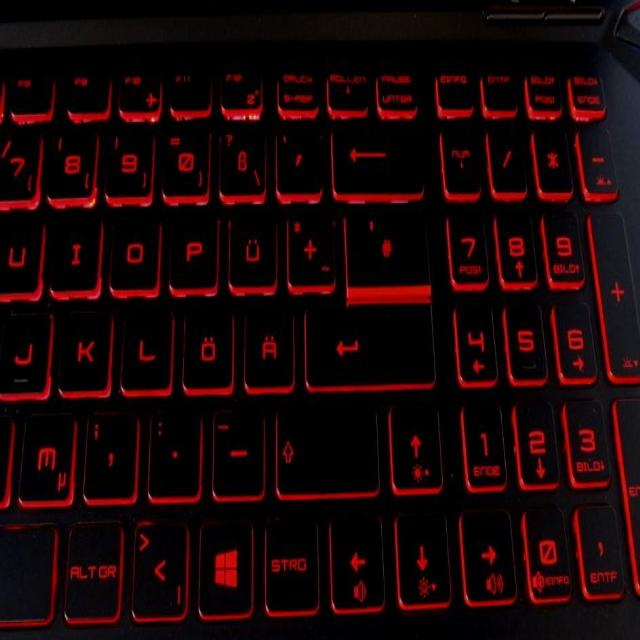0: (160, 121, 212, 199)
7: (0, 123, 41, 201)
8: (46, 124, 98, 203)
9: (103, 121, 155, 199)
accent: (273, 121, 324, 199)
ae: (241, 302, 296, 389)
altgr-right: (61, 516, 125, 623)
comma: (79, 407, 139, 502)
del: (330, 114, 424, 199)
enter: (302, 302, 436, 391)
hash: (343, 209, 432, 295)
i: (46, 213, 101, 291)
j: (0, 307, 52, 399)
k: (54, 303, 112, 396)
keyboard: (0, 34, 640, 640)
l: (116, 303, 173, 393)
less: (128, 515, 190, 623)
m: (16, 408, 77, 507)
minus: (208, 403, 267, 499)
o: (106, 210, 161, 291)
oe: (179, 302, 234, 392)
p: (166, 209, 219, 290)
plus: (286, 211, 338, 290)
point: (144, 406, 202, 501)
shift-right: (272, 401, 383, 495)
ss: (217, 122, 268, 200)
strg-right: (261, 511, 322, 618)
u: (0, 211, 43, 296)
ue: (225, 209, 277, 287)
